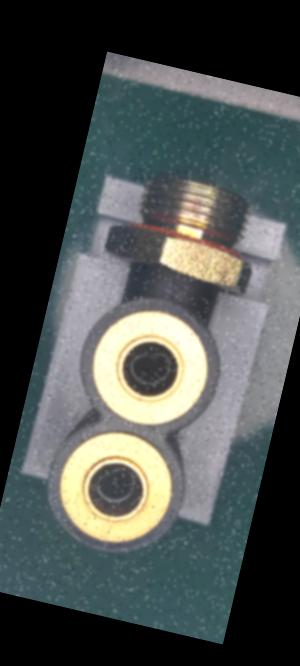craze: (167, 278, 195, 299)
off-centered: (118, 342, 177, 399), (84, 458, 140, 512)
